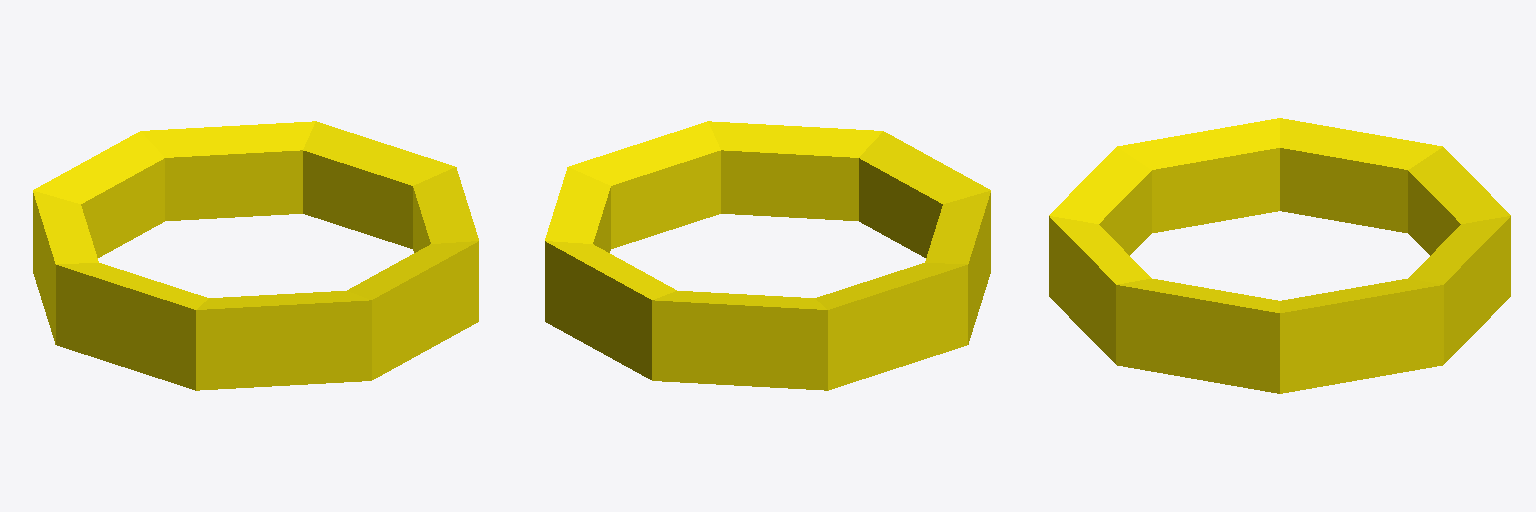
Rendered from Ring.obj.
3 renders of one model, left to right at view 1: azimuth 30°, elevation 25°; view 2: azimuth 150°, elevation 25°; view 3: azimuth 270°, elevation 25°, orthographic.
Parts seen in each view (by area): view 1: Ring; view 2: Ring; view 3: Ring.
Part boxes in pixels (x1,y1,x2,y2): Ring: (33, 121, 478, 390); Ring: (545, 121, 990, 390); Ring: (1049, 118, 1510, 393).
Bounding box in the file's own units: 0.26 × 0.05 × 0.26.